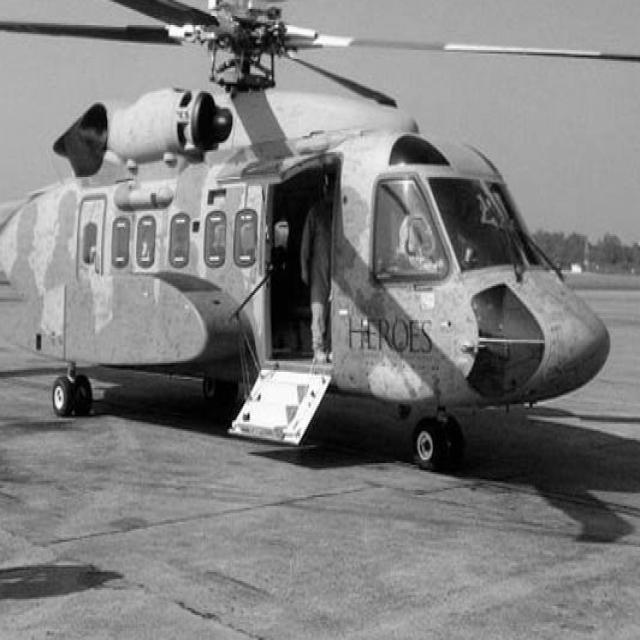helicopter: (1, 1, 640, 475)
